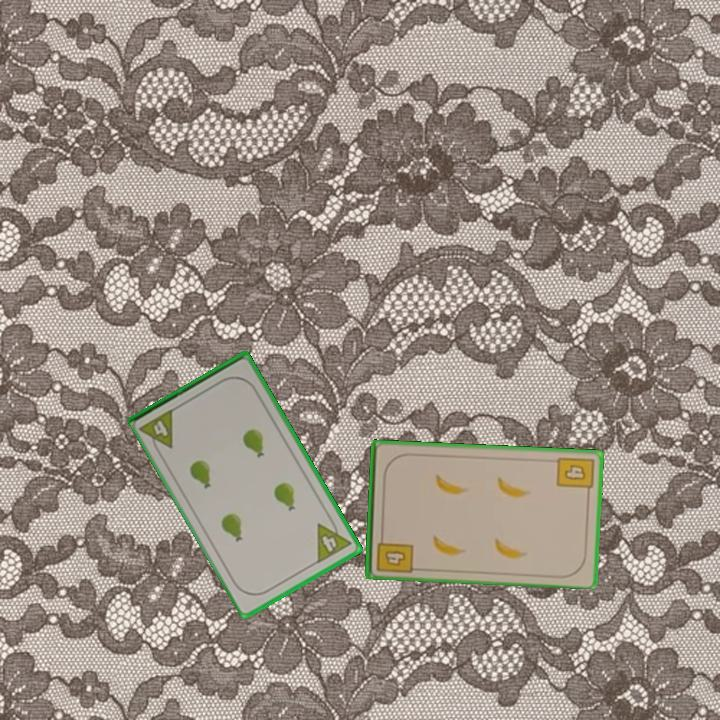4b: (553, 453, 596, 498), (373, 530, 415, 576)
4p: (313, 513, 354, 566), (137, 405, 177, 457)
